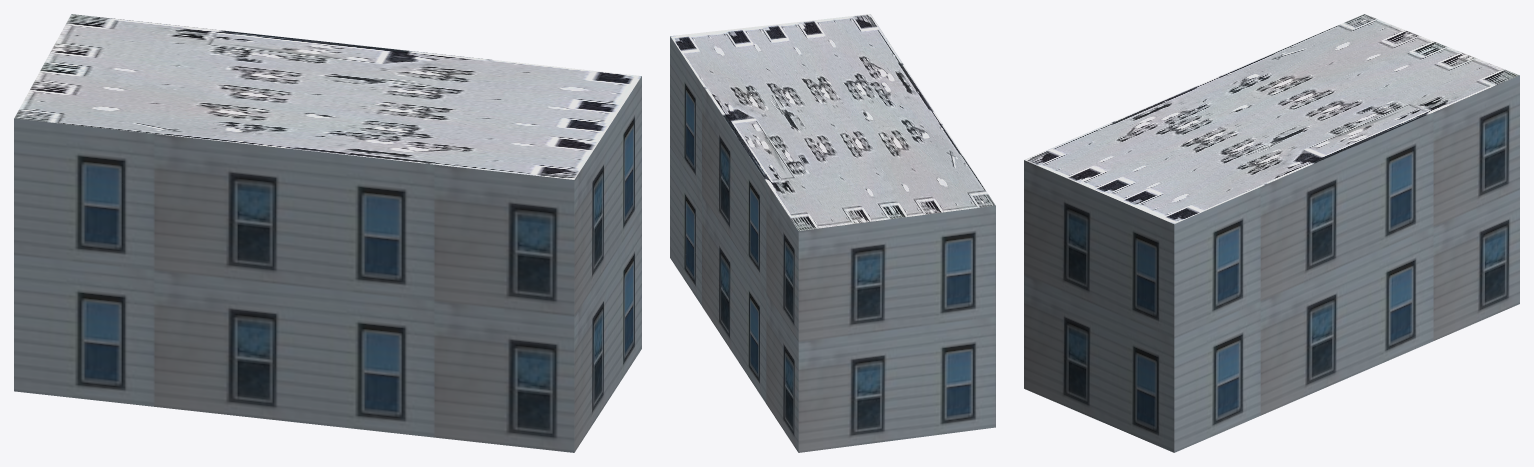
Rendered from ResTex__86.fbx.
3 renders of one model, left to right at view 1: azimuth 30°, elevation 25°; view 2: azimuth 150°, elevation 25°; view 3: azimuth 270°, elevation 25°, orthographic. The views are drawn at different scales.
Visible parts, largest first — view 1: CityEngineMaterial_18_m, CityEngineMaterial_8_m; view 2: CityEngineMaterial_18_m, CityEngineMaterial_8_m; view 3: CityEngineMaterial_18_m, CityEngineMaterial_8_m.
Part boxes in pixels (x1,y1,x2,y2): CityEngineMaterial_18_m: [14, 76, 641, 452]; CityEngineMaterial_8_m: [14, 14, 641, 179]; CityEngineMaterial_18_m: [670, 36, 995, 452]; CityEngineMaterial_8_m: [670, 14, 995, 230]; CityEngineMaterial_18_m: [1024, 75, 1519, 452]; CityEngineMaterial_8_m: [1024, 14, 1519, 224].
Bounding box in the file's own units: 11.83 × 6 × 11.79.
Materials: 2 (2 with a texture image).
